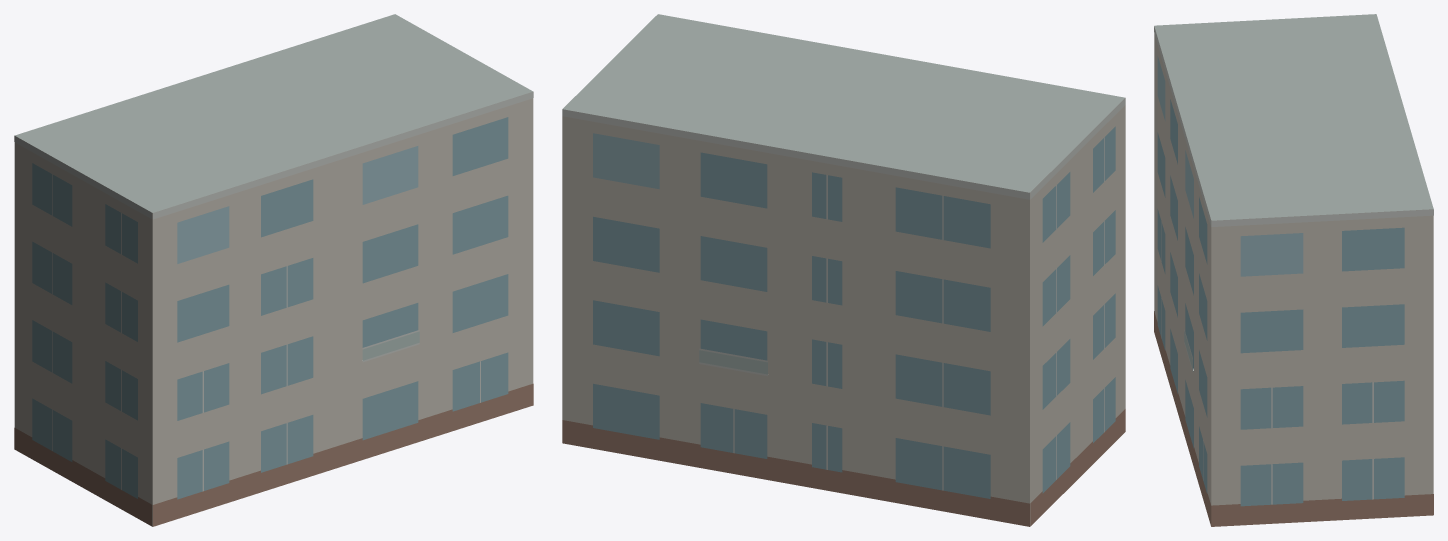
File: survey-upis-32975132.glb
3 views of the same model, side by side, from view 1: azimuth 30°, elevation 25°; view 2: azimuth 150°, elevation 25°; view 3: azimuth 270°, elevation 25° (orthographic). The views are drawn at different scales.
Parts seen in each view (by area): view 1: survey-upis-32975132.tmp; view 2: survey-upis-32975132.tmp; view 3: survey-upis-32975132.tmp.
Part boxes in pixels (x1,y1,x2,y2): survey-upis-32975132.tmp: (14,14,533,526); survey-upis-32975132.tmp: (562,14,1125,526); survey-upis-32975132.tmp: (1154,14,1433,526).
Bounding box in the file's own units: 16.87 × 11.64 × 9.65.
